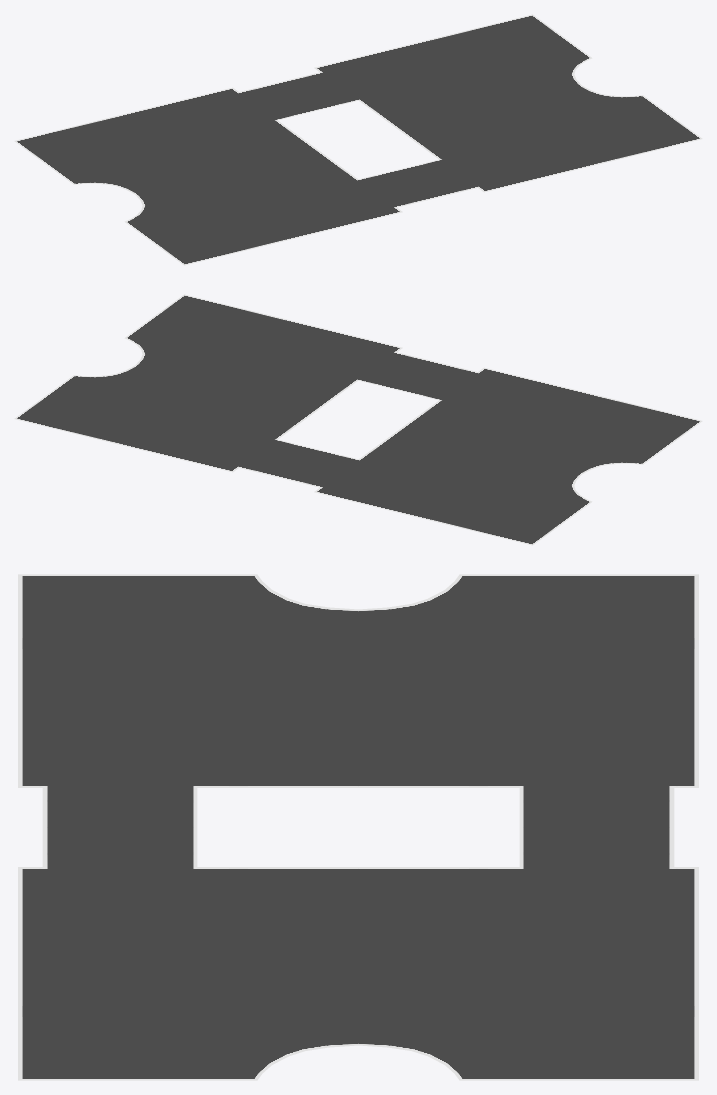
File: ramkaForest.fbx
The picture shows the model from 3 angles, top to bottom: view 1: azimuth 30°, elevation 25°; view 2: azimuth 150°, elevation 25°; view 3: azimuth 270°, elevation 25°; orthographic projection. The views are drawn at different scales.
Parts seen in each view (by area): view 1: FullQuarterForest; view 2: FullQuarterForest; view 3: FullQuarterForest.
Boxes of the visible parts, left/top/right/bottom form: FullQuarterForest: left=14, top=14, right=702, bottom=265; FullQuarterForest: left=14, top=294, right=702, bottom=545; FullQuarterForest: left=18, top=574, right=698, bottom=1080.
Size of the model in its own units: 2476 by 0 by 1407.
